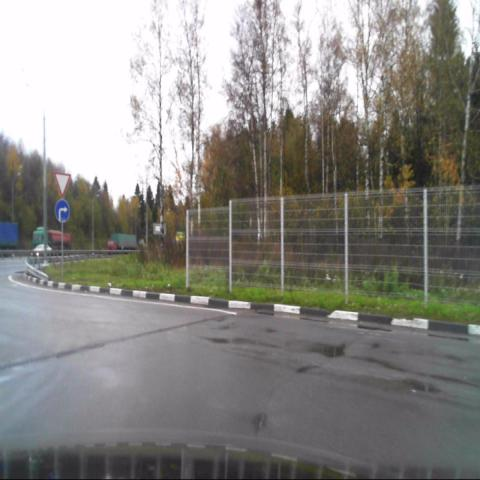4_1_2: (55, 201, 69, 224)
